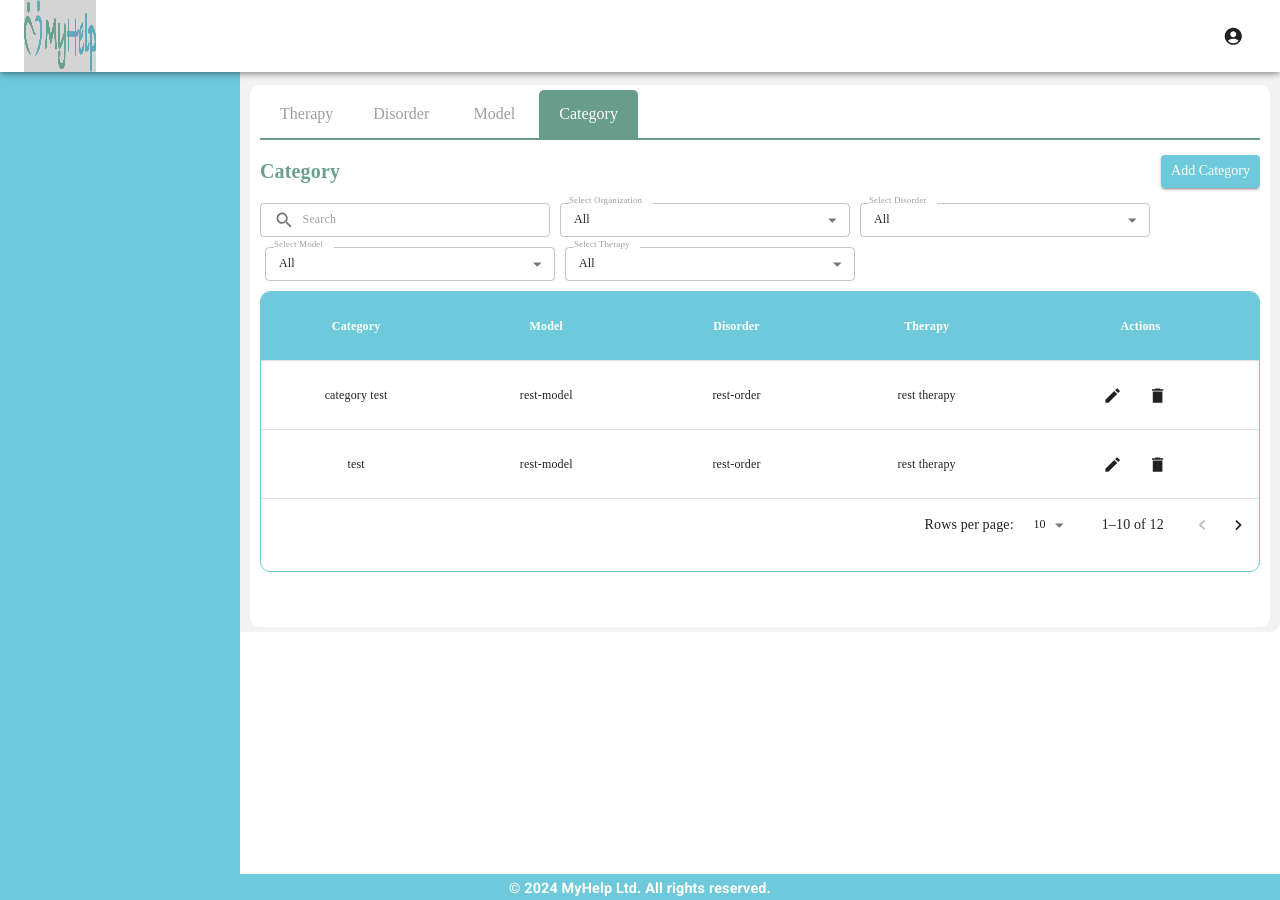
it: Admin category list › should update category
Click the button with test id "iconButton_edit_categoryid1".
click(1113, 395)  # box [1095,377,1130,413]
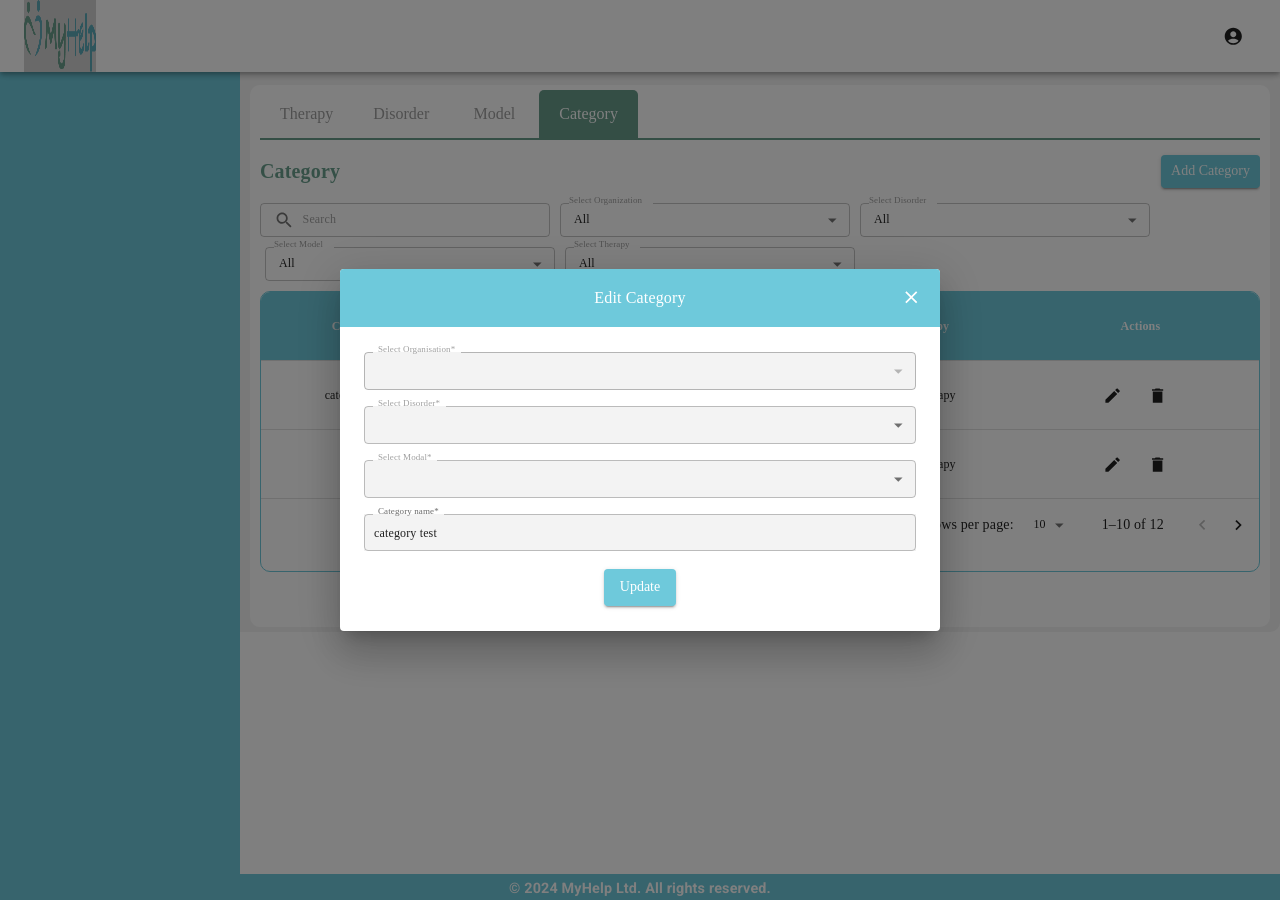
Click the button with test id "addCategorySubmit".
click(640, 587)  # box [604,569,676,606]
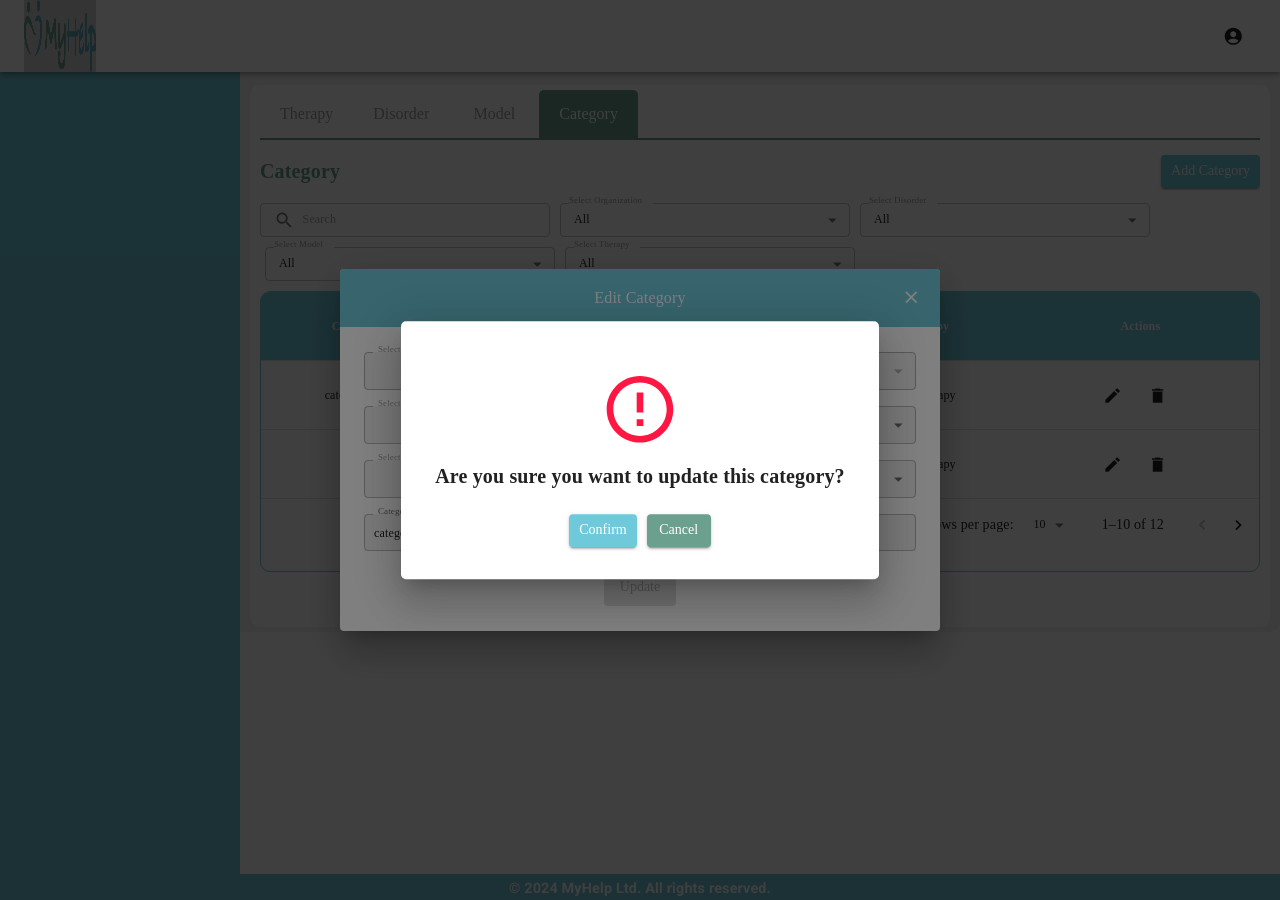
Click the button with test id "confirmButton".
click(603, 531)  # box [569,514,637,547]
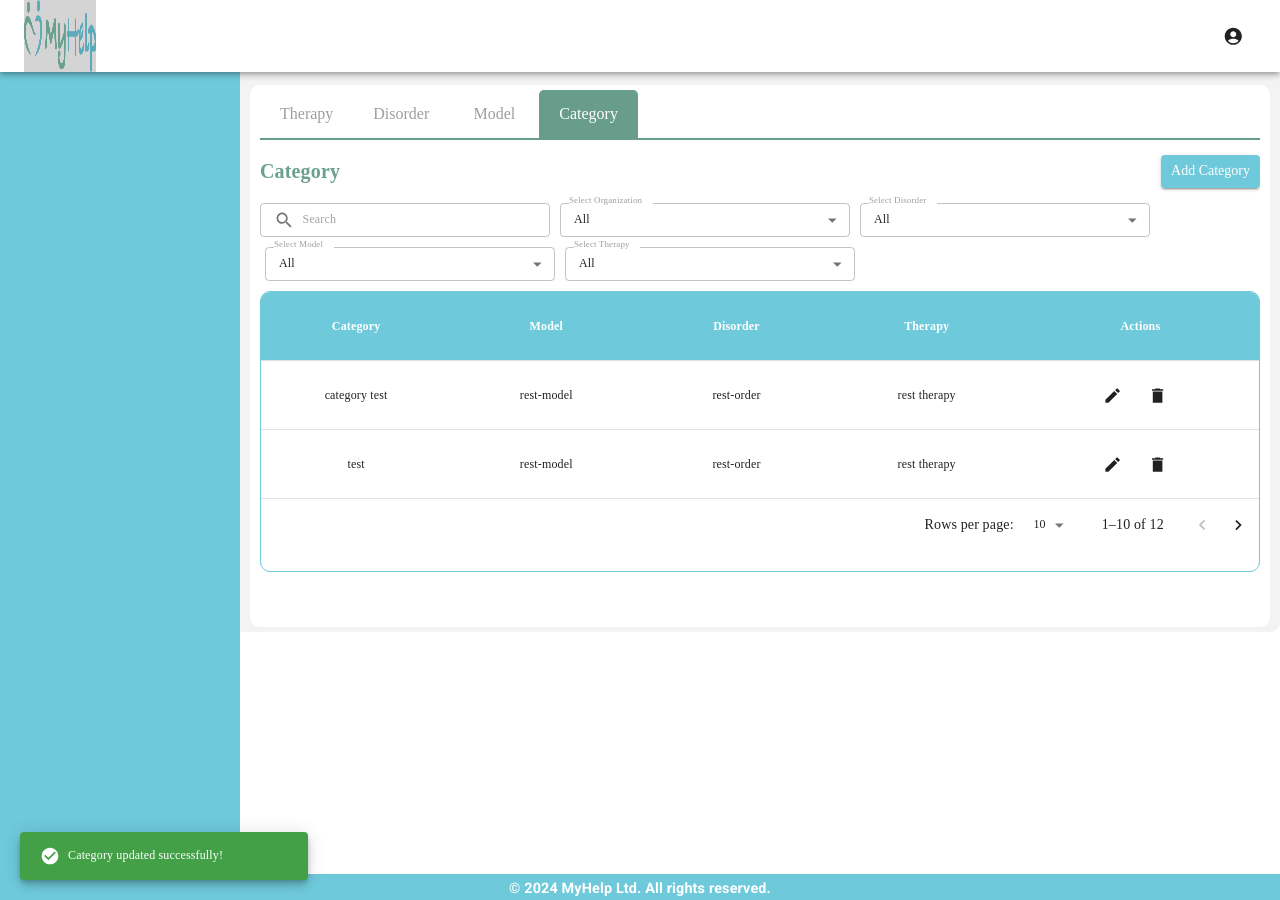
Check: the text "Category updated successfully!" is shown, box [40,846,223,866]
